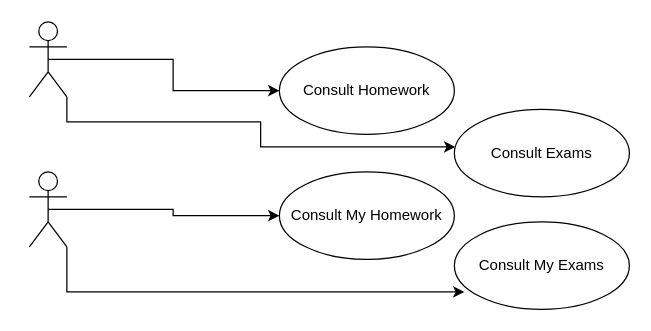
This 651x331 diagram has some shape labels left out. Each missing label, with the centre of its shape:
"Student" goes at (47,209).
"Teacher" goes at (47,59).
